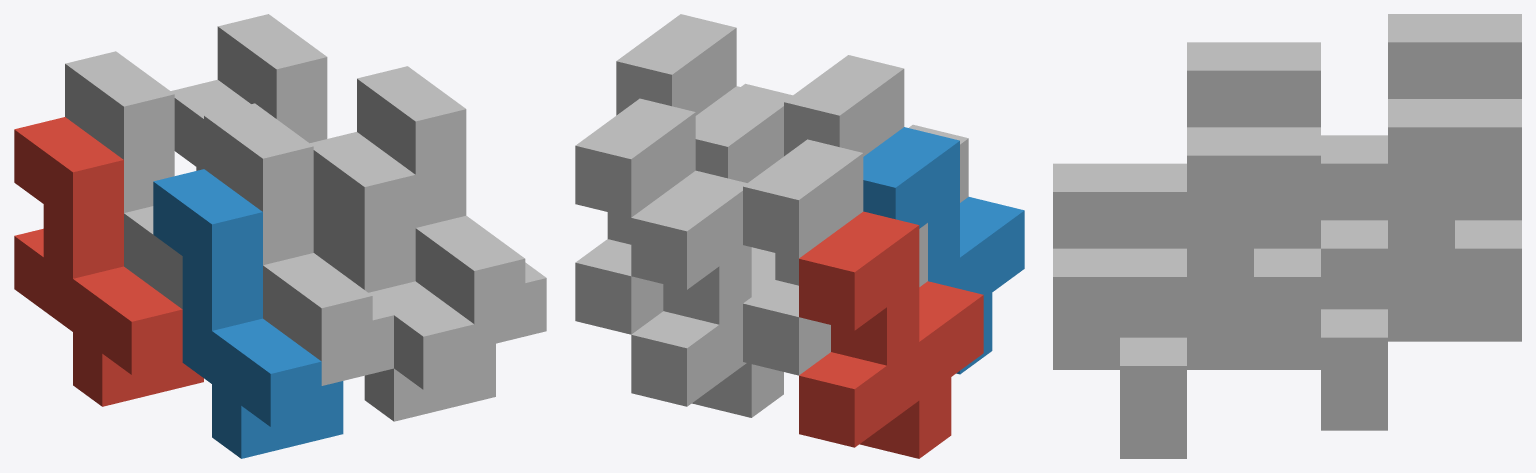
The model's file is tiling.obj.
3 views of the same model, side by side, from view 1: azimuth 30°, elevation 25°; view 2: azimuth 150°, elevation 25°; view 3: azimuth 270°, elevation 25° (orthographic). The views are drawn at different scales.
Visible parts, largest first — view 1: copy_1_domain_1, copy_1_domain_2, copy_1_domain_6, copy_1_domain_8, copy_1_domain_4, copy_1_domain_3, copy_1_domain_7, copy_1_domain_5; view 2: copy_1_domain_1, copy_1_domain_5, copy_1_domain_3, copy_1_domain_7, copy_1_domain_2, copy_1_domain_4, copy_1_domain_8, copy_1_domain_6; view 3: copy_1_domain_8, copy_1_domain_7, copy_1_domain_4, copy_1_domain_3, copy_1_domain_6, copy_1_domain_5.
Boxes of the visible parts, box(x1,y1,x2,y2) form: copy_1_domain_1: box(14, 117, 203, 406); copy_1_domain_2: box(153, 169, 343, 458); copy_1_domain_6: box(310, 132, 495, 421); copy_1_domain_8: box(357, 66, 546, 348); copy_1_domain_4: box(204, 103, 393, 385); copy_1_domain_3: box(65, 51, 182, 308); copy_1_domain_7: box(217, 14, 335, 268); copy_1_domain_5: box(171, 79, 250, 170); copy_1_domain_1: box(799, 211, 983, 458); copy_1_domain_5: box(631, 170, 783, 417); copy_1_domain_3: box(743, 139, 927, 375); copy_1_domain_7: box(575, 98, 695, 334); copy_1_domain_2: box(863, 127, 1024, 374); copy_1_domain_4: box(784, 55, 968, 202); copy_1_domain_8: box(616, 14, 792, 115); copy_1_domain_6: box(695, 86, 787, 182); copy_1_domain_8: box(1053, 127, 1320, 426); copy_1_domain_7: box(1321, 99, 1521, 398); copy_1_domain_4: box(1053, 42, 1320, 248); copy_1_domain_3: box(1321, 14, 1521, 220); copy_1_domain_6: box(1053, 216, 1320, 458); copy_1_domain_5: box(1321, 188, 1521, 430).
Bounding box in the file's own units: 7 × 5 × 7.
